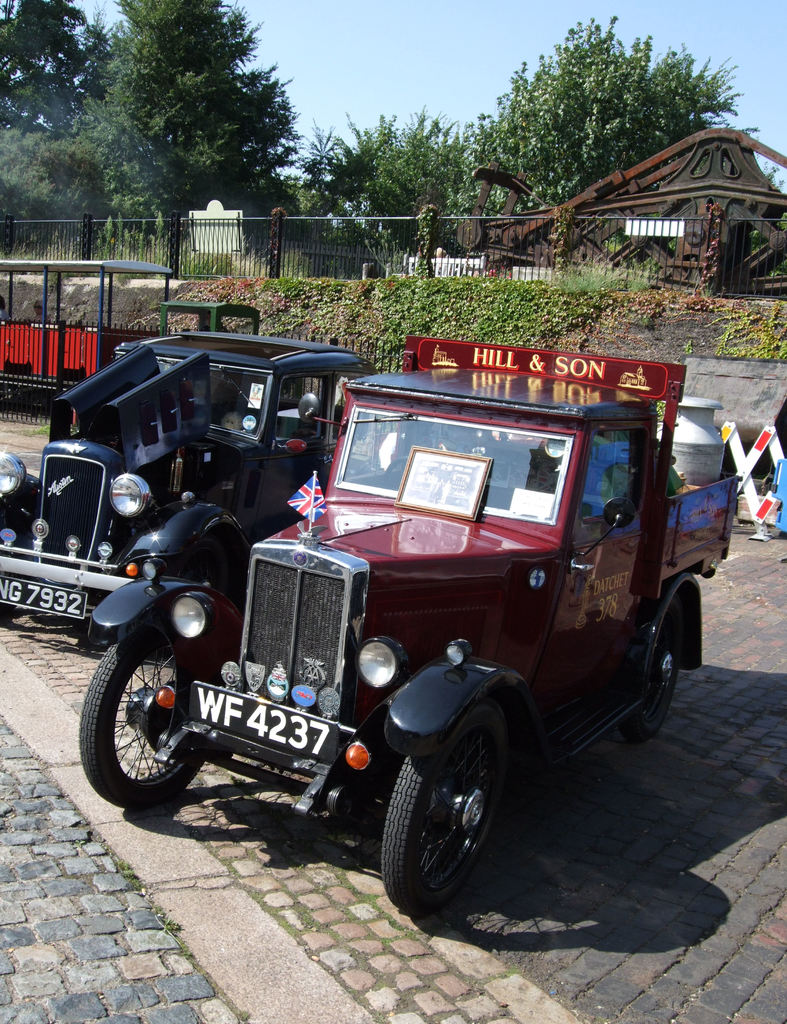Car: (76, 334, 747, 910), (0, 339, 387, 637)
